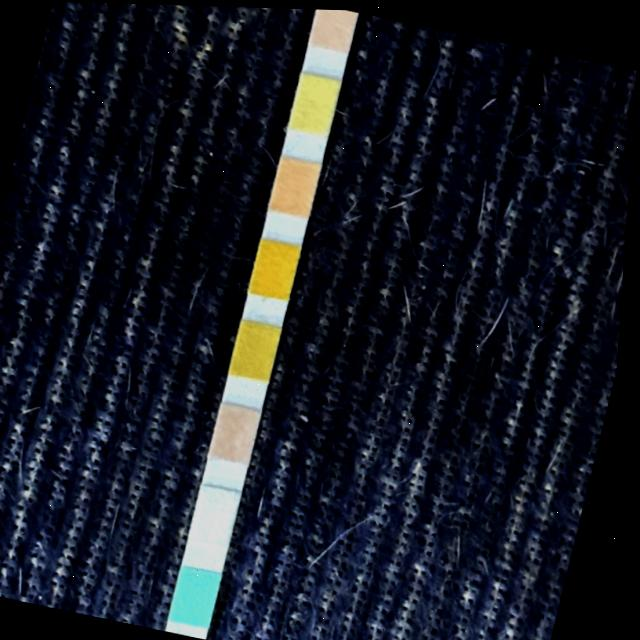Bilirubin: (194, 482, 248, 543)
Blood: (250, 236, 304, 298)
Glucose: (174, 564, 230, 627)
Ketone: (212, 400, 266, 463)
Protein: (288, 70, 342, 134)
SpGravity: (231, 317, 285, 381)
Urobilinogen: (306, 7, 357, 51)
pH: (269, 154, 323, 217)
